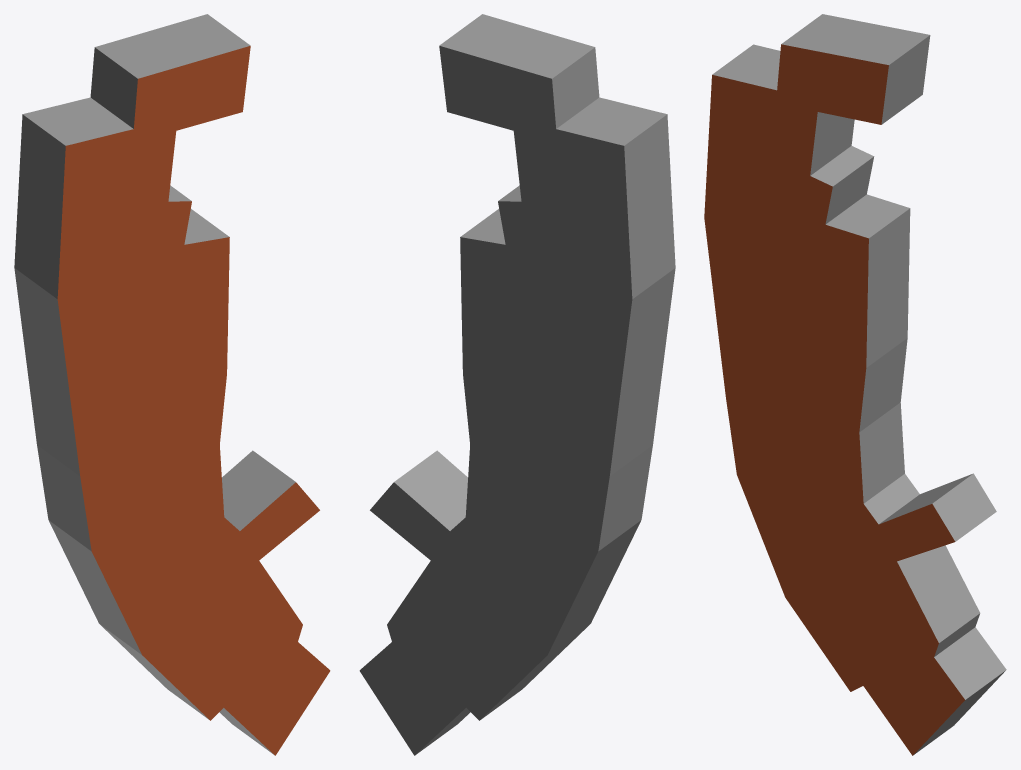
The model's file is construction_2775_assumed_A_Casa_h6m.obj.
The picture shows the model from 3 angles, left to right: view 1: azimuth 30°, elevation 25°; view 2: azimuth 150°, elevation 25°; view 3: azimuth 330°, elevation 25°; orthographic projection. The views are drawn at different scales.
Visible parts, largest first — view 1: construction_2775_assumed_A_Casa; view 2: construction_2775_assumed_A_Casa; view 3: construction_2775_assumed_A_Casa.
Part boxes in pixels (box(x1,y1,x2,y2)): construction_2775_assumed_A_Casa: box(14, 14, 330, 755); construction_2775_assumed_A_Casa: box(359, 14, 675, 755); construction_2775_assumed_A_Casa: box(704, 14, 1006, 755).
Size of the model in its own units: 21.85 by 54.79 by 6.
